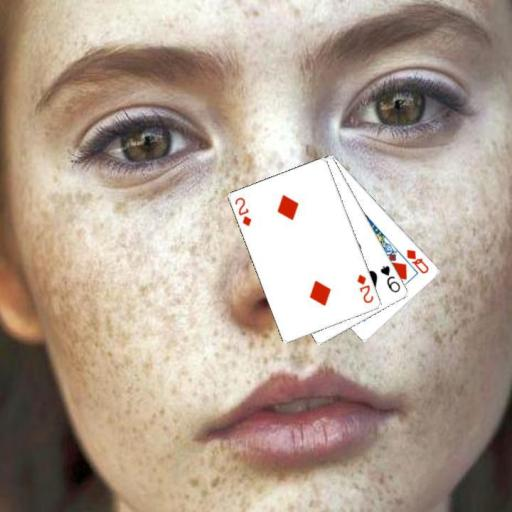2D: (354, 271, 376, 305), (232, 194, 253, 228)
9S: (377, 263, 402, 295)
QD: (403, 246, 430, 275)
